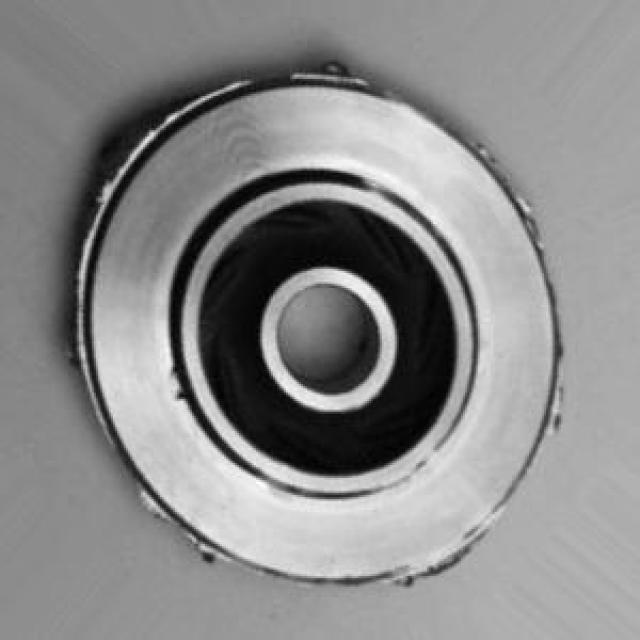Defect: (320, 55, 356, 89)
